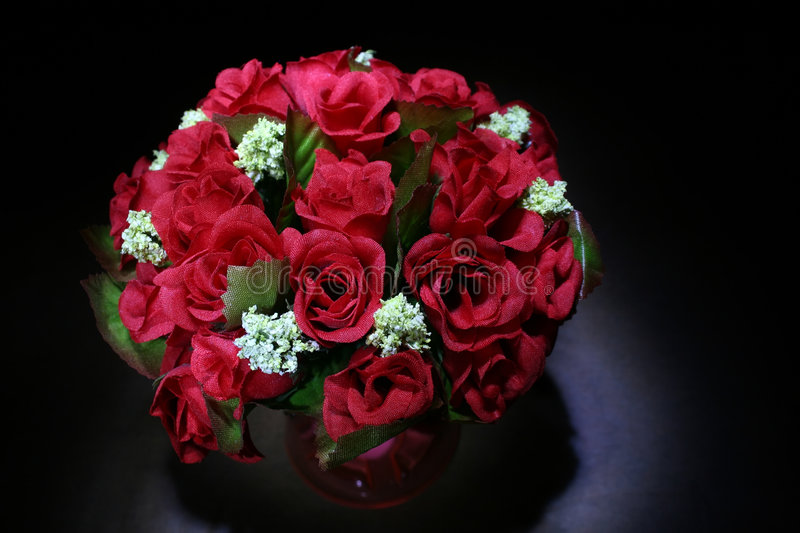RedRose: (411, 222, 542, 360), (281, 221, 399, 344), (179, 213, 298, 326), (320, 323, 434, 432), (305, 68, 421, 154)
